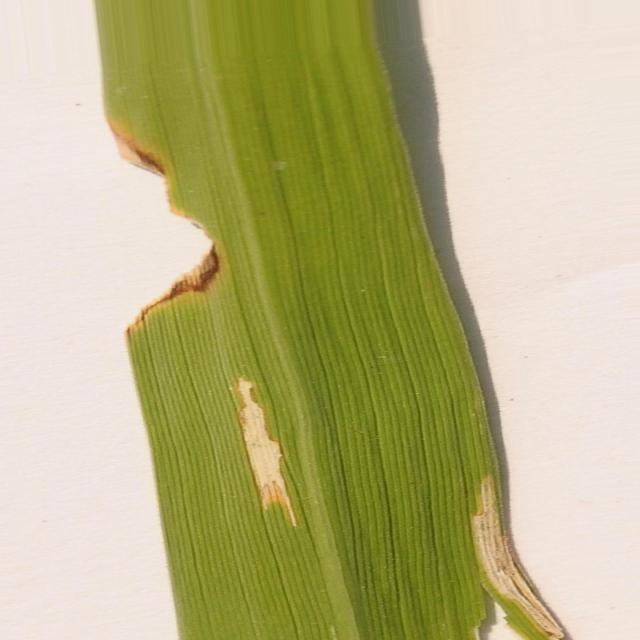Bacterial_Leaf_Blight: (471, 476, 564, 640), (235, 378, 296, 526)
